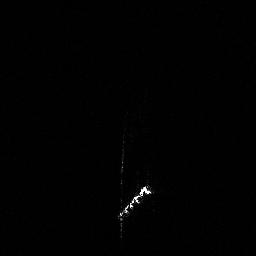ship: (112, 180, 156, 224)
